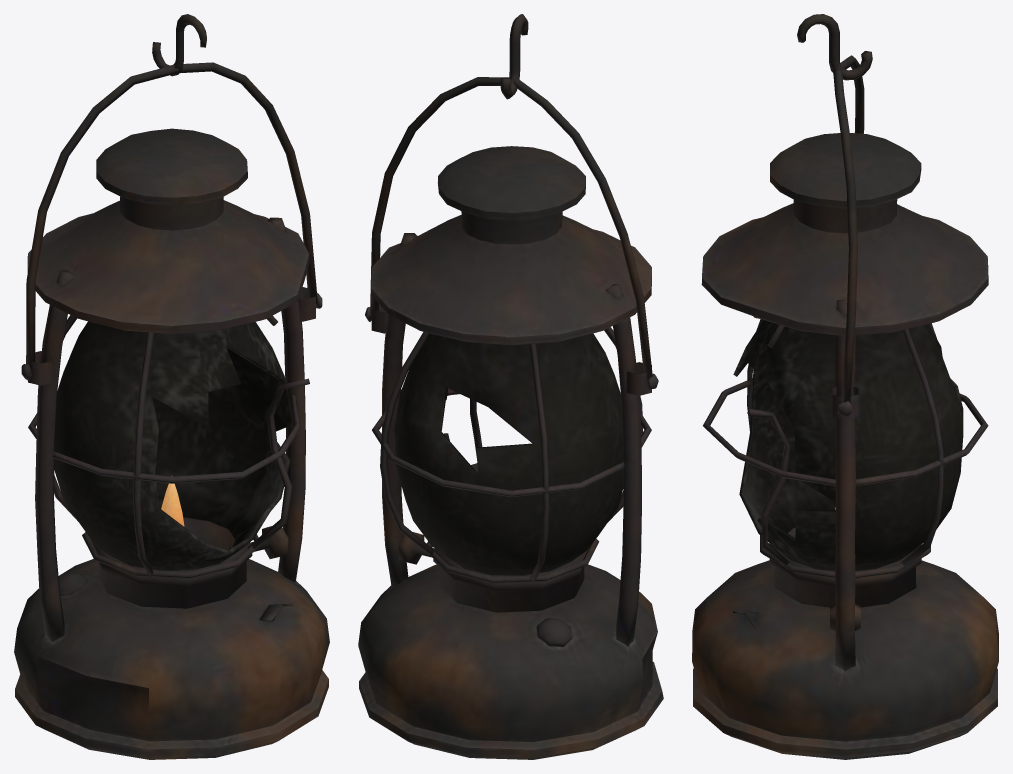
Rendered from b4p_mine_lantern.glb.
The picture shows the model from 3 angles, left to right: view 1: azimuth 30°, elevation 25°; view 2: azimuth 150°, elevation 25°; view 3: azimuth 270°, elevation 25°; orthographic projection. The views are drawn at different scales.
Parts seen in each view (by area): view 1: b4p_mine_lantern; view 2: b4p_mine_lantern; view 3: b4p_mine_lantern.
Part boxes in pixels (<box>): b4p_mine_lantern: <box>14,14,329,759</box>; b4p_mine_lantern: <box>358,14,663,759</box>; b4p_mine_lantern: <box>692,14,998,759</box>.
Size of the model in its own units: 0.171 by 0.3783 by 0.1531.
1 material, 1 textured.
